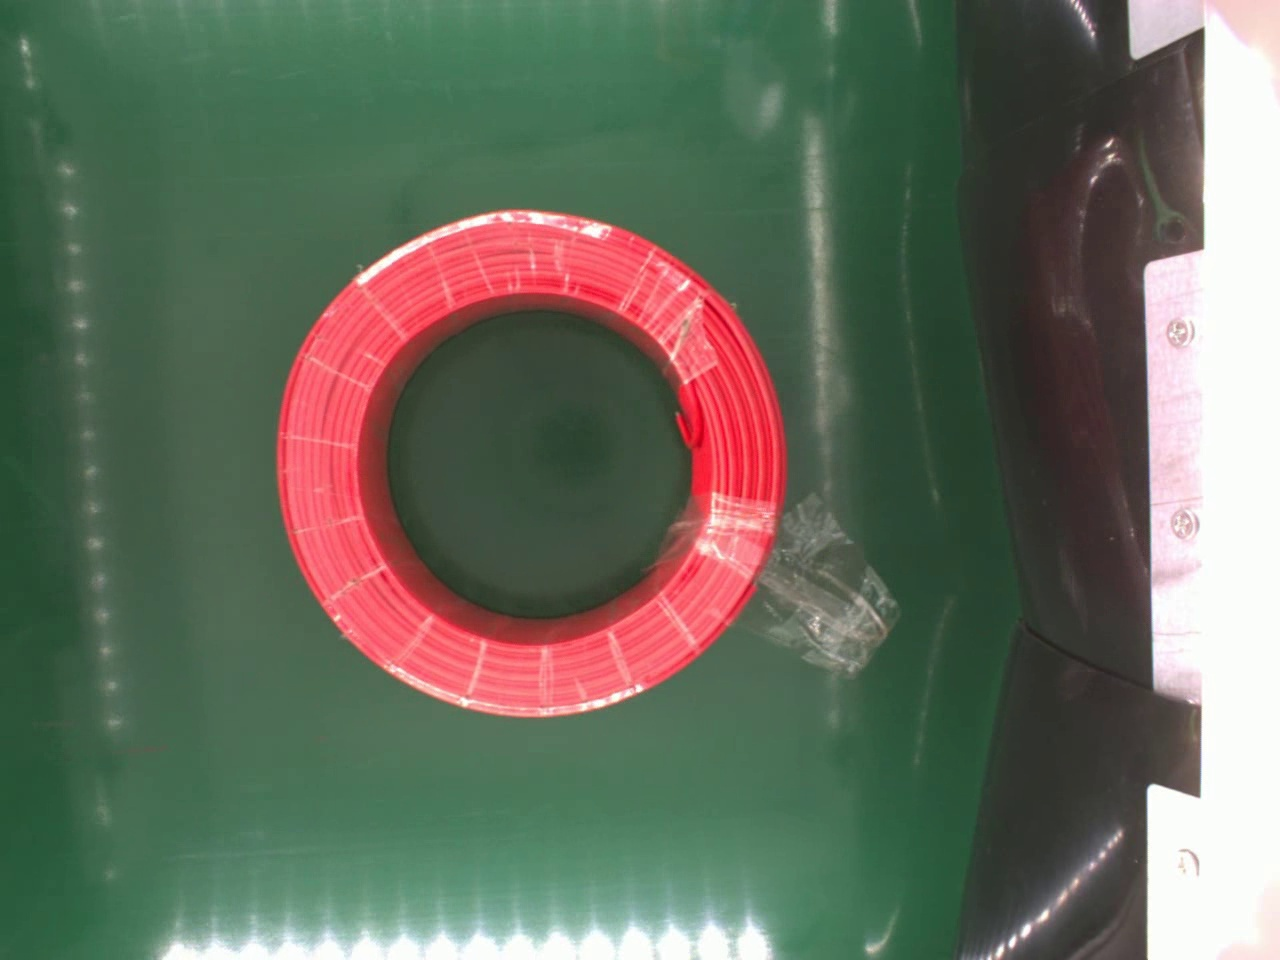red: (272, 202, 793, 721)
